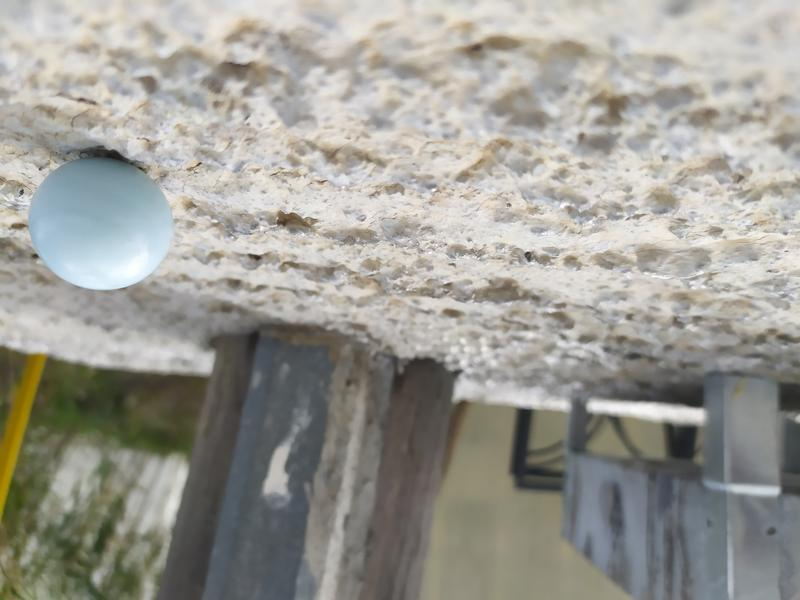Warning: (25, 154, 177, 294)
